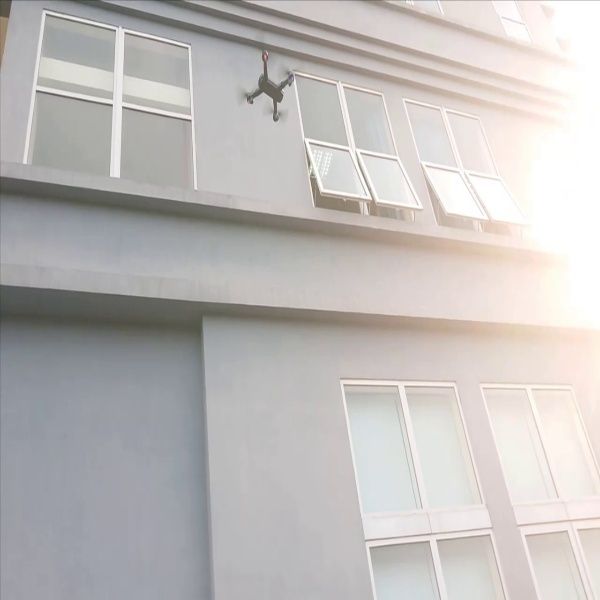drone: (230, 39, 302, 128)
